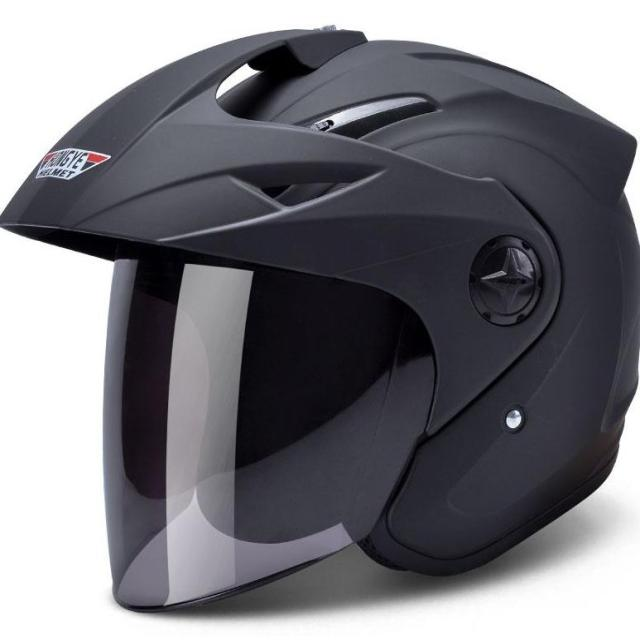Helm: (0, 21, 640, 616)
